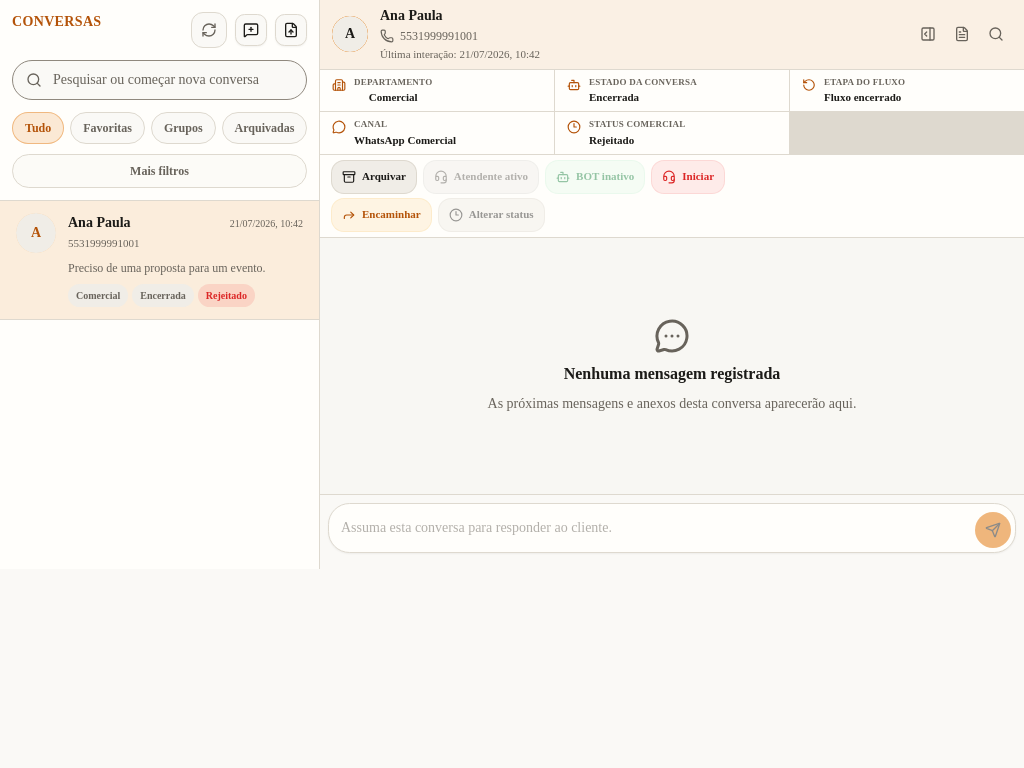
Test: ConversationWorkspace › exibe o encerramento como temporário, com data, responsável e motivo
Click the button named "Abrir orçamentos" at x=962, y=34, box [946, 18, 978, 50]
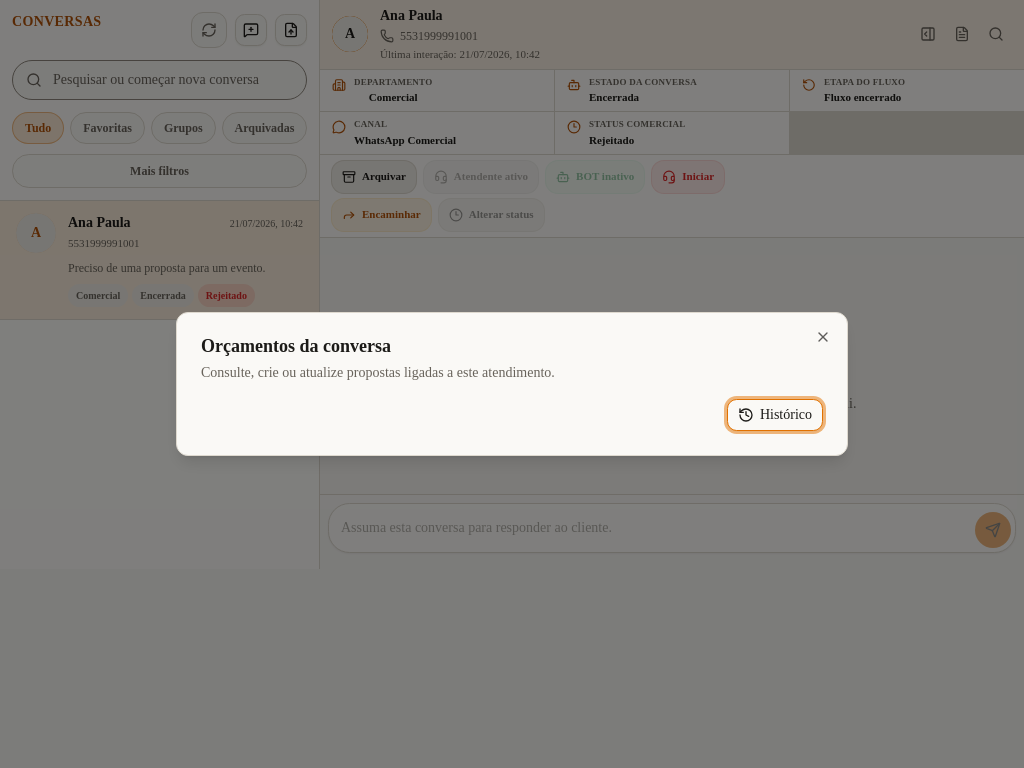
Click the button "Histórico" at x=775, y=415, box [727, 399, 823, 431]
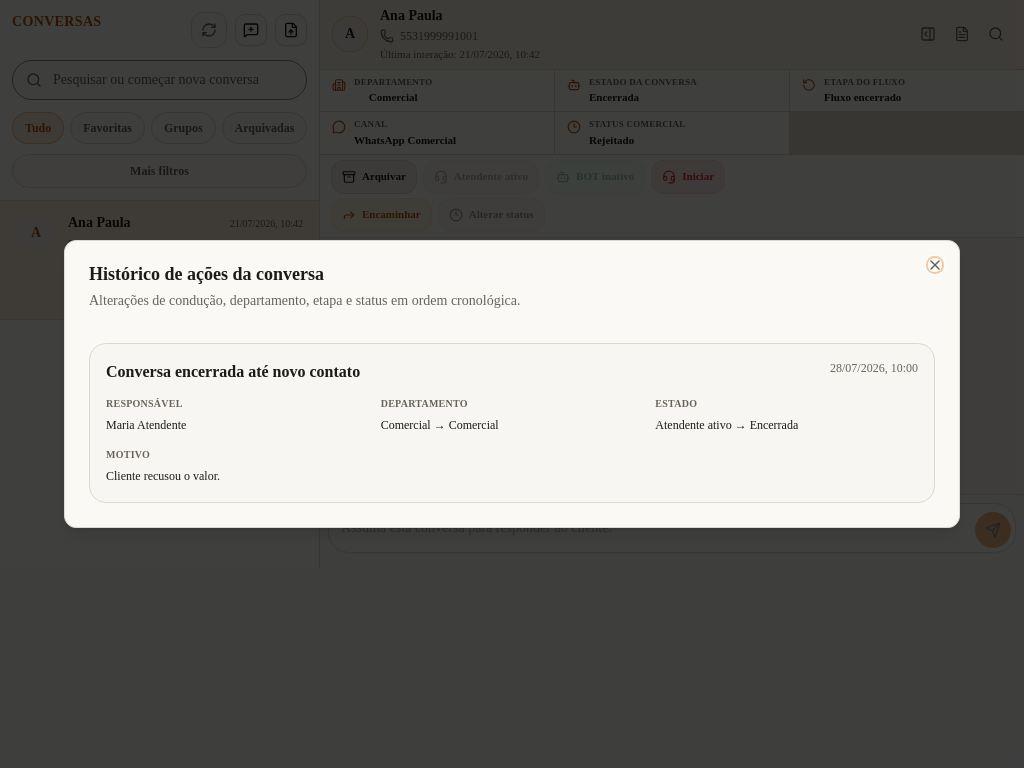
Now the heading "Histórico de ações da conversa" is shown, box [89, 264, 324, 284]
Now the text "Conversa encerrada até novo contato" is shown, box [106, 360, 360, 384]
Now the text "Maria Atendente" is shown, box [106, 418, 186, 432]
